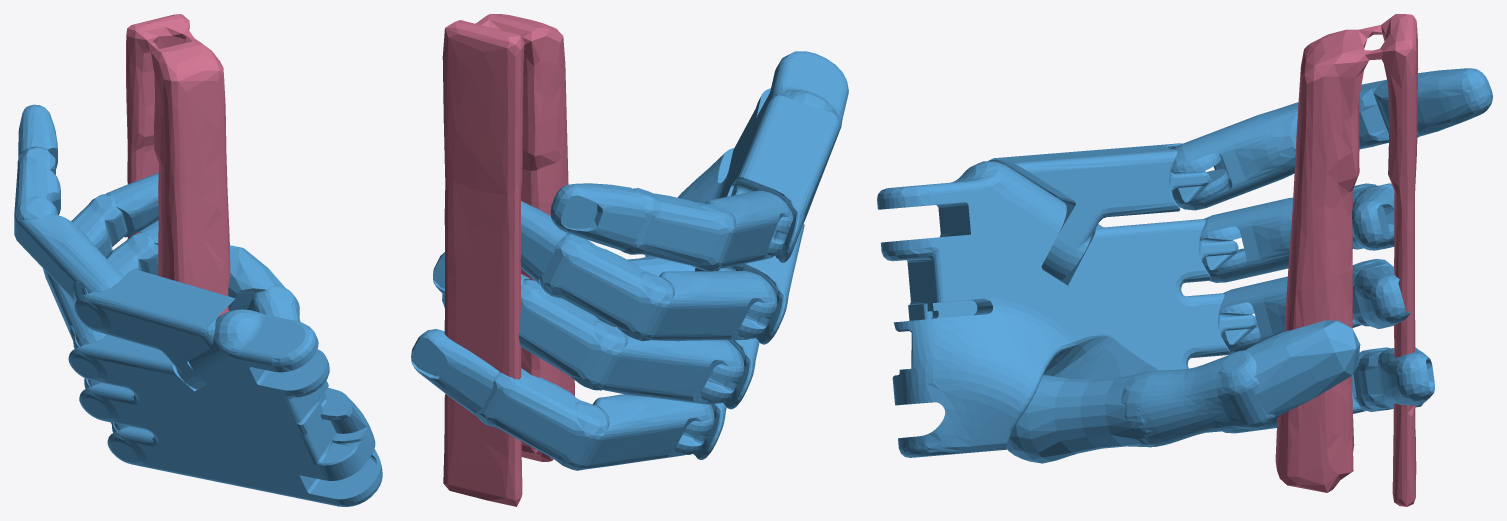
The picture shows the model from 3 angles, left to right: view 1: azimuth 30°, elevation 25°; view 2: azimuth 150°, elevation 25°; view 3: azimuth 270°, elevation 25°; orthographic projection. The views are drawn at different scales.
Parts seen in each view (by area): view 1: 9; view 2: 9; view 3: 9.
Boxes of the visible parts, x1,y1,x2,y2 form: 9: [14, 14, 382, 506]; 9: [411, 14, 848, 506]; 9: [877, 14, 1492, 506].
Size of the model in its own units: 0.1031 by 0.1499 by 0.1794.
